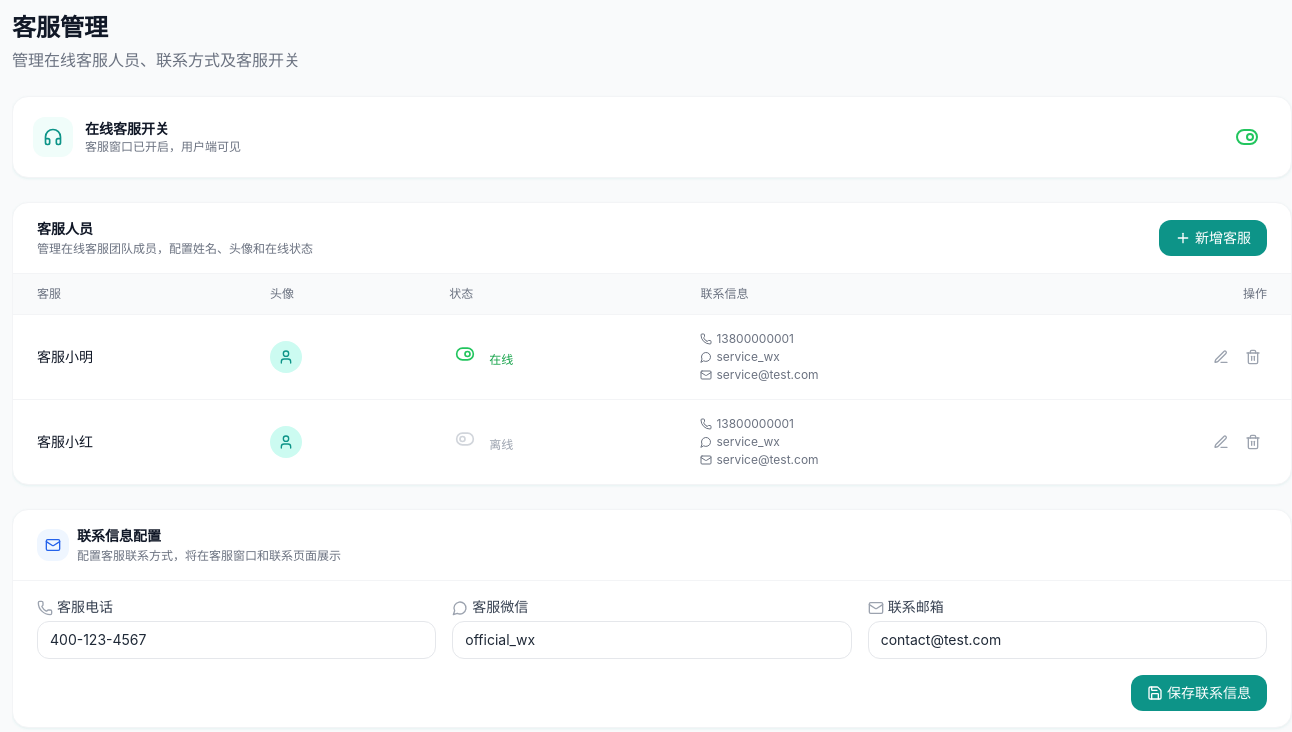
Test: AdminCustomerService › 客服人员 CRUD › 点击编辑按钮进入编辑模式
The image size is (1292, 732).
Expected: the text "客服小明" is shown, x1=37 y1=348 x2=93 y2=365
Click the button titled "编辑" in the row of "客服小明".
click(1221, 357)  # box x1=1207 y1=343 x2=1235 y2=371
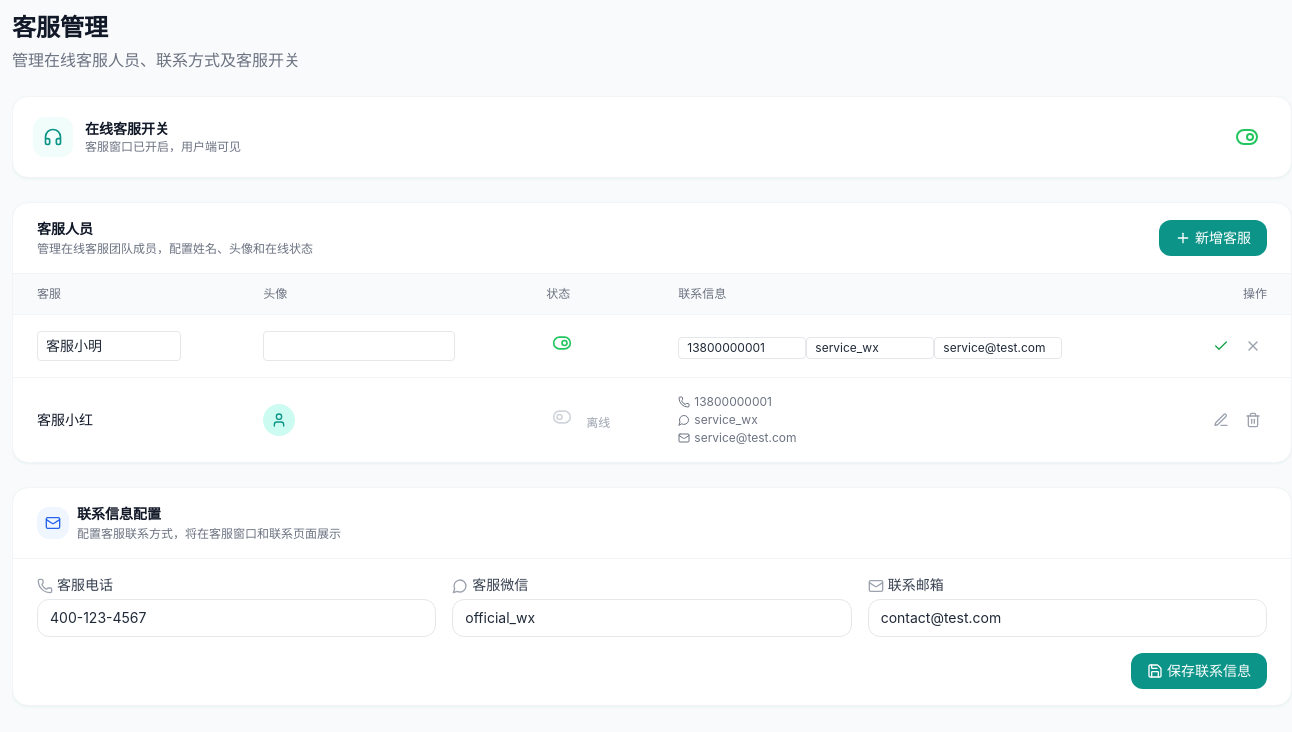
Expected: the 1st field is shown, x1=37 y1=331 x2=181 y2=361
